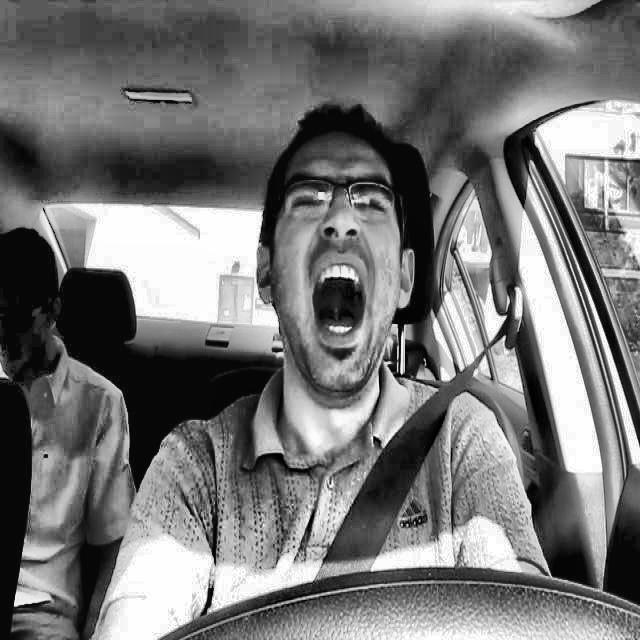closed_eyes: (278, 179, 333, 225), (345, 183, 400, 225)
open_mouth: (295, 250, 382, 363)
